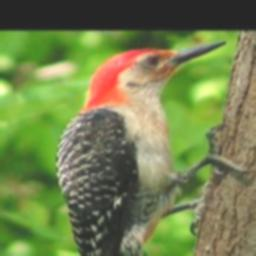Woodpecker: (53, 40, 256, 256)
